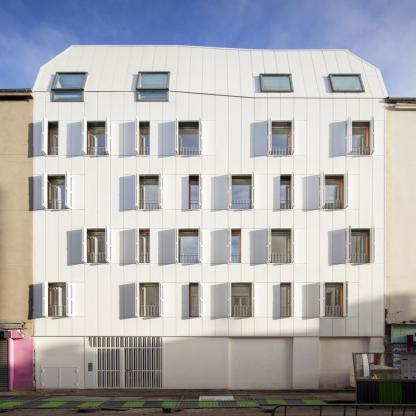Balcony: (346, 147, 369, 158), (52, 306, 75, 317), (47, 200, 70, 211), (137, 200, 160, 211), (228, 200, 251, 211), (319, 200, 342, 211), (88, 253, 111, 264), (138, 253, 161, 264), (177, 253, 200, 264), (269, 253, 292, 264), (342, 253, 365, 264), (141, 306, 164, 317), (228, 306, 251, 317), (88, 148, 111, 159), (179, 147, 202, 158), (268, 148, 291, 159), (269, 201, 292, 211), (320, 307, 343, 317), (189, 200, 200, 211), (230, 254, 241, 264), (139, 148, 149, 159), (281, 307, 291, 317), (190, 306, 199, 317), (49, 148, 58, 159)
Building Outline: (31, 45, 389, 389)
Door: (86, 337, 162, 388), (140, 180, 159, 210), (52, 181, 71, 211), (179, 234, 198, 263), (271, 129, 290, 158), (232, 286, 250, 316), (322, 287, 340, 317), (144, 287, 162, 317), (52, 287, 70, 317), (270, 180, 288, 210), (347, 129, 365, 158), (90, 234, 108, 263), (141, 234, 159, 263), (271, 234, 289, 263), (347, 234, 365, 263), (322, 181, 340, 210), (231, 181, 249, 210), (90, 129, 108, 158), (180, 129, 198, 158), (231, 233, 239, 263), (141, 129, 149, 159), (191, 181, 199, 210), (52, 130, 60, 159), (281, 287, 288, 317), (192, 287, 199, 316)
Facade: (30, 45, 389, 389)
Roof: (31, 45, 389, 98)
Window: (87, 229, 107, 264), (178, 229, 198, 264), (271, 229, 291, 264), (351, 229, 371, 264), (324, 283, 344, 318), (231, 283, 251, 318), (140, 283, 160, 318), (47, 283, 67, 318), (47, 175, 67, 210), (140, 175, 160, 210), (233, 175, 253, 210), (323, 175, 343, 210), (350, 121, 370, 155), (272, 121, 292, 155), (179, 121, 199, 155), (87, 121, 107, 155), (55, 74, 85, 88), (333, 76, 362, 90), (280, 283, 291, 317), (189, 175, 200, 209), (280, 175, 291, 209), (139, 229, 150, 263), (140, 74, 167, 87), (263, 76, 290, 89), (48, 121, 58, 155), (139, 121, 149, 155), (231, 229, 241, 263), (189, 283, 199, 317), (54, 92, 82, 100), (139, 92, 166, 100)
